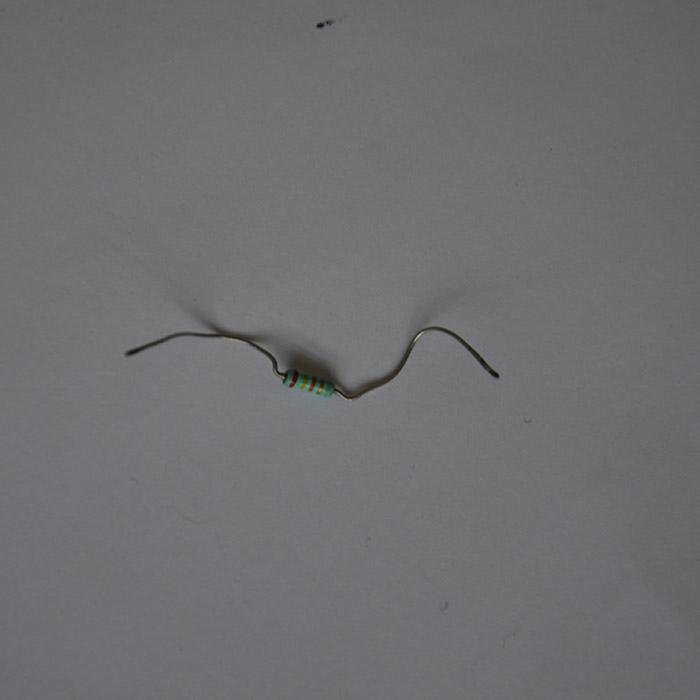resistor: (280, 368, 336, 398)
